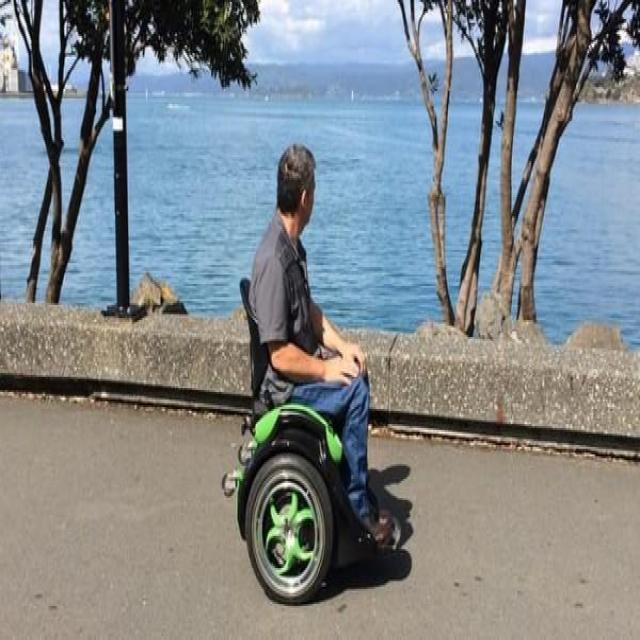wheelchairs: (219, 269, 391, 609)
